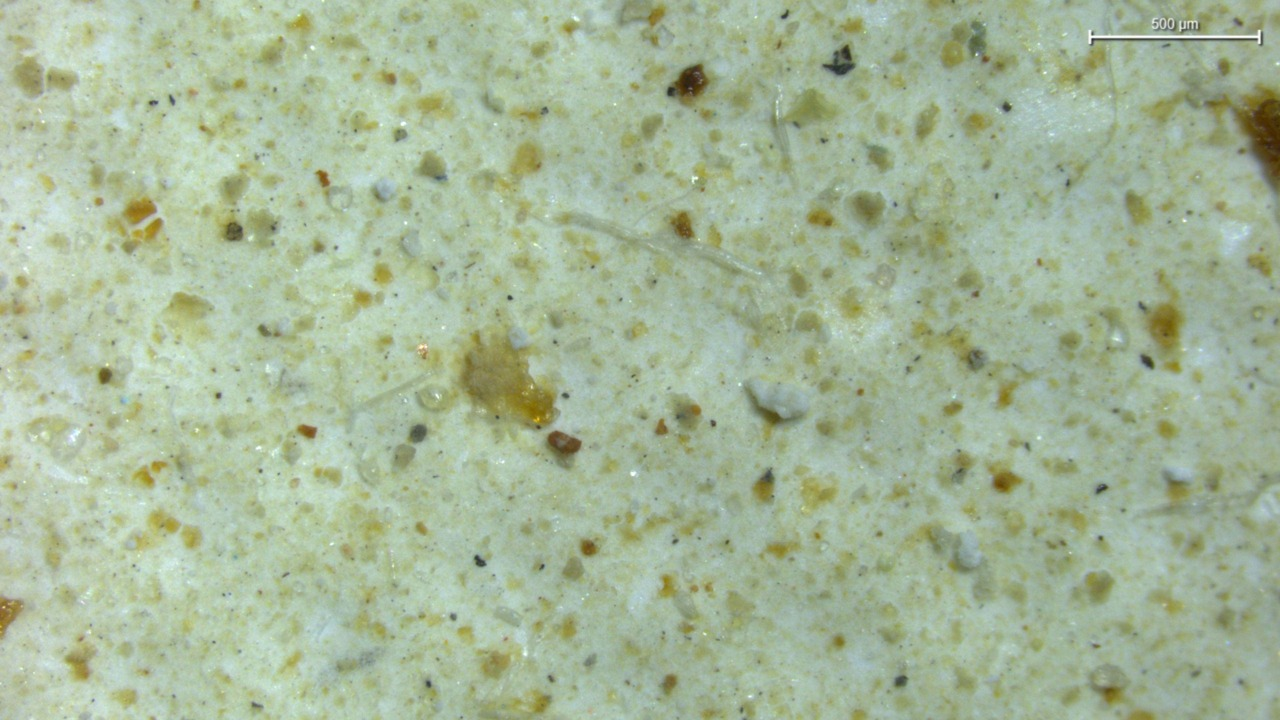microplastic_fragment: (461, 335, 557, 426), (743, 377, 810, 420), (952, 531, 983, 569), (414, 385, 443, 410), (373, 177, 398, 201)
